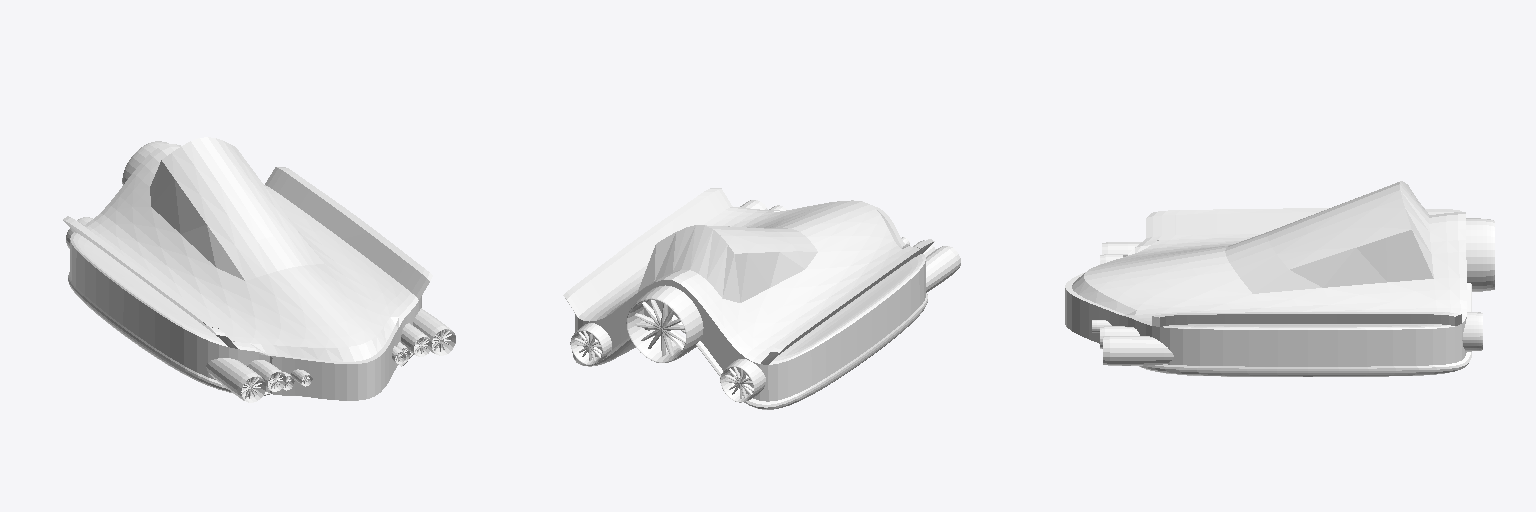
The model's file is team2_scout.obj.
3 renders of one model, left to right at view 1: azimuth 30°, elevation 25°; view 2: azimuth 150°, elevation 25°; view 3: azimuth 270°, elevation 25°, orthographic.
Parts seen in each view (by area): view 1: pasted__pCube1 body, polySurface6 polySurface18, polySurface5, pasted__pPipe2 schuss_r_2, polySurface7 polySurface6, antrieb_mitte1; view 2: pasted__pCube1 body, antrieb_mitte1, pasted__polySurface4 antrieb_r, polySurface4, polySurface6 polySurface18; view 3: pasted__pCube1 body, antrieb_mitte1, polySurface5, polySurface4.
Part boxes in pixels (x1,y1,x2,y2): pasted__pCube1 body: (63,137,432,400); polySurface6 polySurface18: (206,358,265,402); polySurface5: (413,308,455,355); pasted__pPipe2 schuss_r_2: (401,323,431,356); polySurface7 polySurface6: (247,360,285,391); antrieb_mitte1: (122,141,168,184); pasted__pCube1 body: (563,188,934,409); antrieb_mitte1: (626,285,703,362); pasted__polySurface4 antrieb_r: (720,359,765,402); polySurface4: (570,323,611,364); polySurface6 polySurface18: (926,246,960,292); pasted__pCube1 body: (1065,181,1471,376); antrieb_mitte1: (1466,218,1494,291); polySurface5: (1103,336,1173,365); polySurface4: (1462,312,1482,351).
Size of the model in its own units: 21.61 by 11.98 by 31.79.